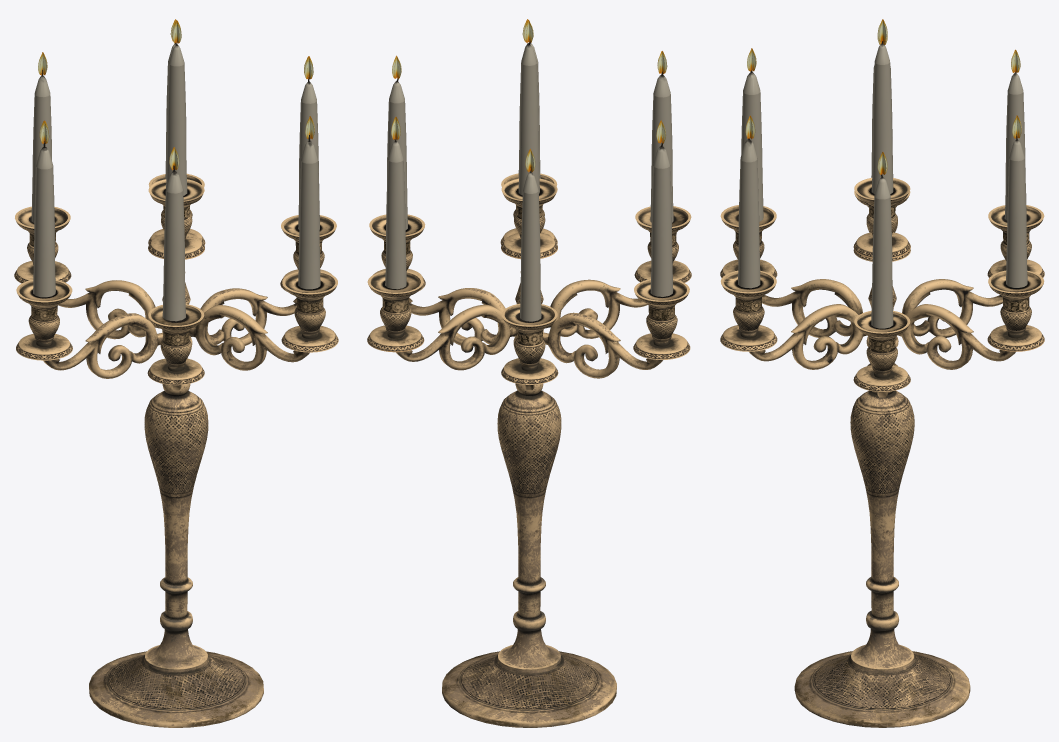
Rendered from candelabro_maior_4k.fbx.
3 views of the same model, side by side, from view 1: azimuth 30°, elevation 25°; view 2: azimuth 150°, elevation 25°; view 3: azimuth 270°, elevation 25° (orthographic).
Visible parts, largest first — view 1: brass_candleholder_03; view 2: brass_candleholder_03; view 3: brass_candleholder_03.
Part boxes in pixels (box(x1,y1,x2,y2)): brass_candleholder_03: box(14, 19, 338, 727); brass_candleholder_03: box(367, 19, 691, 727); brass_candleholder_03: box(720, 19, 1044, 727).
Bounding box in the file's own units: 40.83 × 83.53 × 36.47.
2 materials, 2 textured.
